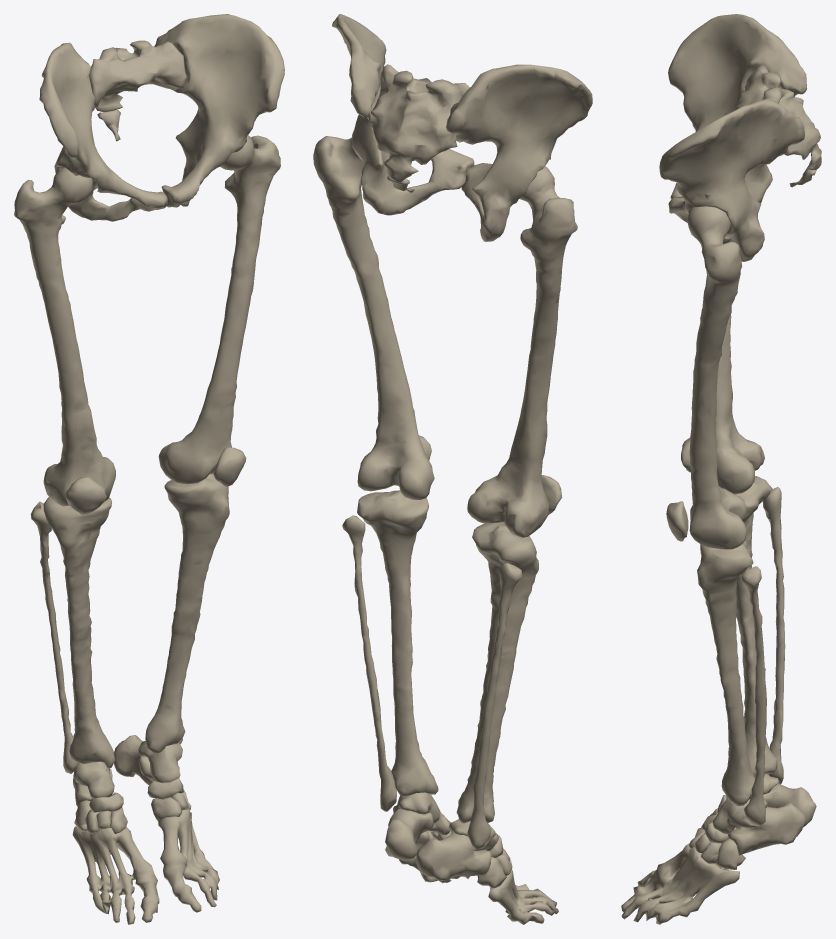
Rendered from vhf_lower_limb_adult_female.skeletal.LOD4.glb.
The picture shows the model from 3 angles, left to right: view 1: azimuth 30°, elevation 25°; view 2: azimuth 150°, elevation 25°; view 3: azimuth 270°, elevation 25°; orthographic projection. The views are drawn at different scales.
Parts seen in each view (by area): view 1: VHF_LOWER_LIMB.ADULT.FEMALE.SKELETAL.HIP_BONE_OS_COXAE.L, VHF_LOWER_LIMB.ADULT.FEMALE.SKELETAL.FEMUR.R, VHF_LOWER_LIMB.ADULT.FEMALE.SKELETAL.FEMUR.L, VHF_LOWER_LIMB.ADULT.FEMALE.SKELETAL.TIBIA.L, VHF_LOWER_LIMB.ADULT.FEMALE.SKELETAL.METATARSALS_AND_PHALANG (×2), VHF_LOWER_LIMB.ADULT.FEMALE.SKELETAL.HIP_BONE_OS_COXAE.R, VHF_LOWER_LIMB.ADULT.FEMALE.SKELETAL.TIBIA.R, VHF_LOWER_LIMB.ADULT.FEMALE.SKELETAL.SACRUM, VHF_LOWER_LIMB.ADULT.FEMALE.SKELETAL.FIBULA.R, VHF_LOWER_LIMB.ADULT.FEMALE.SKELETAL.CALCANEUS.L, VHF_LOWER_LIMB.ADULT.FEMALE.SKELETAL.TALUS.L, VHF_LOWER_LIMB.ADULT.FEMALE.SKELETAL.PATELLA.R (+2 smaller); view 2: VHF_LOWER_LIMB.ADULT.FEMALE.SKELETAL.HIP_BONE_OS_COXAE.R, VHF_LOWER_LIMB.ADULT.FEMALE.SKELETAL.FEMUR.L, VHF_LOWER_LIMB.ADULT.FEMALE.SKELETAL.FEMUR.R, VHF_LOWER_LIMB.ADULT.FEMALE.SKELETAL.TIBIA.L, VHF_LOWER_LIMB.ADULT.FEMALE.SKELETAL.HIP_BONE_OS_COXAE.L, VHF_LOWER_LIMB.ADULT.FEMALE.SKELETAL.TIBIA.R, VHF_LOWER_LIMB.ADULT.FEMALE.SKELETAL.SACRUM, VHF_LOWER_LIMB.ADULT.FEMALE.SKELETAL.FIBULA.R, VHF_LOWER_LIMB.ADULT.FEMALE.SKELETAL.FIBULA.L, VHF_LOWER_LIMB.ADULT.FEMALE.SKELETAL.CALCANEUS.R, VHF_LOWER_LIMB.ADULT.FEMALE.SKELETAL.METATARSALS_AND_PHALANG, VHF_LOWER_LIMB.ADULT.FEMALE.SKELETAL.CALCANEUS.L (+1 smaller); view 3: VHF_LOWER_LIMB.ADULT.FEMALE.SKELETAL.FEMUR.L, VHF_LOWER_LIMB.ADULT.FEMALE.SKELETAL.HIP_BONE_OS_COXAE.L, VHF_LOWER_LIMB.ADULT.FEMALE.SKELETAL.HIP_BONE_OS_COXAE.R, VHF_LOWER_LIMB.ADULT.FEMALE.SKELETAL.TIBIA.L, VHF_LOWER_LIMB.ADULT.FEMALE.SKELETAL.METATARSALS_AND_PHALANG, VHF_LOWER_LIMB.ADULT.FEMALE.SKELETAL.FEMUR.R, VHF_LOWER_LIMB.ADULT.FEMALE.SKELETAL.TIBIA.R, VHF_LOWER_LIMB.ADULT.FEMALE.SKELETAL.FIBULA.L, VHF_LOWER_LIMB.ADULT.FEMALE.SKELETAL.FIBULA.R, VHF_LOWER_LIMB.ADULT.FEMALE.SKELETAL.SACRUM, VHF_LOWER_LIMB.ADULT.FEMALE.SKELETAL.CALCANEUS.L, VHF_LOWER_LIMB.ADULT.FEMALE.SKELETAL.CALCANEUS.R (+3 smaller).
Part boxes in pixels (x1,y1,x2,y2): VHF_LOWER_LIMB.ADULT.FEMALE.SKELETAL.HIP_BONE_OS_COXAE.L: (154, 14, 284, 207); VHF_LOWER_LIMB.ADULT.FEMALE.SKELETAL.FEMUR.R: (14, 167, 115, 506); VHF_LOWER_LIMB.ADULT.FEMALE.SKELETAL.FEMUR.L: (158, 135, 280, 484); VHF_LOWER_LIMB.ADULT.FEMALE.SKELETAL.TIBIA.L: (145, 474, 229, 754); VHF_LOWER_LIMB.ADULT.FEMALE.SKELETAL.METATARSALS_AND_PHALANG (×2): (72, 809, 219, 924); VHF_LOWER_LIMB.ADULT.FEMALE.SKELETAL.HIP_BONE_OS_COXAE.R: (39, 42, 167, 221); VHF_LOWER_LIMB.ADULT.FEMALE.SKELETAL.TIBIA.R: (43, 497, 115, 767); VHF_LOWER_LIMB.ADULT.FEMALE.SKELETAL.SACRUM: (89, 40, 186, 112); VHF_LOWER_LIMB.ADULT.FEMALE.SKELETAL.FIBULA.R: (30, 501, 78, 773); VHF_LOWER_LIMB.ADULT.FEMALE.SKELETAL.CALCANEUS.L: (114, 735, 154, 785); VHF_LOWER_LIMB.ADULT.FEMALE.SKELETAL.TALUS.L: (138, 741, 182, 782); VHF_LOWER_LIMB.ADULT.FEMALE.SKELETAL.PATELLA.R: (65, 477, 106, 515); VHF_LOWER_LIMB.ADULT.FEMALE.SKELETAL.HIP_BONE_OS_COXAE.R: (446, 64, 592, 241); VHF_LOWER_LIMB.ADULT.FEMALE.SKELETAL.FEMUR.L: (313, 136, 434, 499); VHF_LOWER_LIMB.ADULT.FEMALE.SKELETAL.FEMUR.R: (467, 166, 577, 537); VHF_LOWER_LIMB.ADULT.FEMALE.SKELETAL.TIBIA.L: (357, 490, 438, 796); VHF_LOWER_LIMB.ADULT.FEMALE.SKELETAL.HIP_BONE_OS_COXAE.L: (332, 14, 474, 215); VHF_LOWER_LIMB.ADULT.FEMALE.SKELETAL.TIBIA.R: (456, 522, 538, 823); VHF_LOWER_LIMB.ADULT.FEMALE.SKELETAL.SACRUM: (371, 64, 469, 182); VHF_LOWER_LIMB.ADULT.FEMALE.SKELETAL.FIBULA.R: (467, 563, 522, 850); VHF_LOWER_LIMB.ADULT.FEMALE.SKELETAL.FIBULA.L: (342, 515, 396, 811); VHF_LOWER_LIMB.ADULT.FEMALE.SKELETAL.CALCANEUS.R: (416, 832, 491, 880); VHF_LOWER_LIMB.ADULT.FEMALE.SKELETAL.METATARSALS_AND_PHALANG: (488, 859, 558, 924); VHF_LOWER_LIMB.ADULT.FEMALE.SKELETAL.CALCANEUS.L: (385, 808, 433, 860); VHF_LOWER_LIMB.ADULT.FEMALE.SKELETAL.FEMUR.L: (687, 206, 746, 549); VHF_LOWER_LIMB.ADULT.FEMALE.SKELETAL.HIP_BONE_OS_COXAE.L: (659, 99, 804, 261); VHF_LOWER_LIMB.ADULT.FEMALE.SKELETAL.HIP_BONE_OS_COXAE.R: (668, 14, 806, 202); VHF_LOWER_LIMB.ADULT.FEMALE.SKELETAL.TIBIA.L: (697, 540, 763, 806); VHF_LOWER_LIMB.ADULT.FEMALE.SKELETAL.METATARSALS_AND_PHALANG: (621, 843, 739, 924); VHF_LOWER_LIMB.ADULT.FEMALE.SKELETAL.FEMUR.R: (715, 234, 764, 494); VHF_LOWER_LIMB.ADULT.FEMALE.SKELETAL.TIBIA.R: (735, 476, 777, 776); VHF_LOWER_LIMB.ADULT.FEMALE.SKELETAL.FIBULA.L: (741, 566, 766, 826); VHF_LOWER_LIMB.ADULT.FEMALE.SKELETAL.FIBULA.R: (762, 487, 785, 784); VHF_LOWER_LIMB.ADULT.FEMALE.SKELETAL.SACRUM: (736, 65, 821, 170); VHF_LOWER_LIMB.ADULT.FEMALE.SKELETAL.CALCANEUS.L: (728, 803, 805, 855); VHF_LOWER_LIMB.ADULT.FEMALE.SKELETAL.CALCANEUS.R: (763, 783, 816, 827).
Bounding box in the file's own units: 0.3249 × 1.02 × 0.2167.
